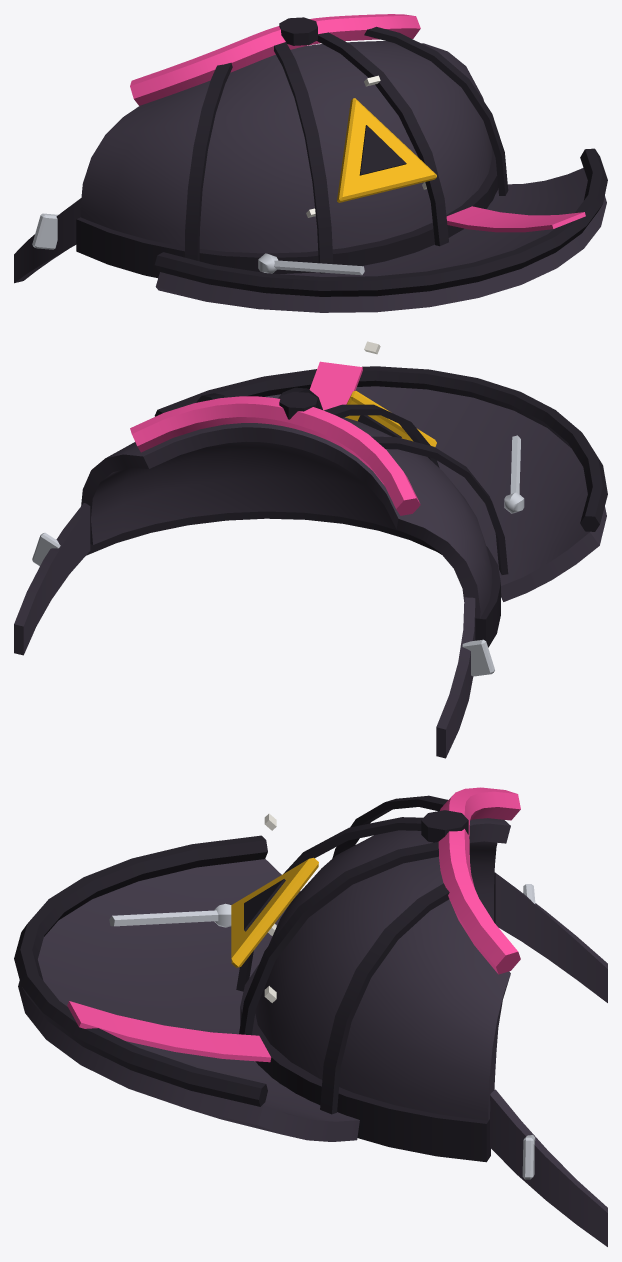
Rendered from scrap_cap.glb.
3 renders of one model, top to bottom at view 1: azimuth 30°, elevation 25°; view 2: azimuth 150°, elevation 25°; view 3: azimuth 270°, elevation 25°, orthographic. The views are drawn at different scales.
Visible parts, largest first — view 1: Headgear; view 2: Headgear; view 3: Headgear.
Part boxes in pixels (left/top/right/bottom): Headgear: left=14, top=14, right=607, bottom=312; Headgear: left=14, top=341, right=607, bottom=758; Headgear: left=14, top=787, right=607, bottom=1246.
Bounding box in the file's own units: 0.2387 × 0.1278 × 0.2248.
